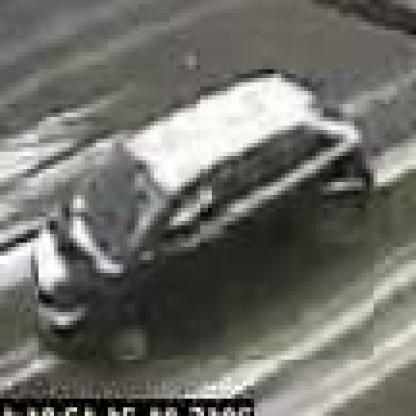car: (36, 70, 375, 365)
